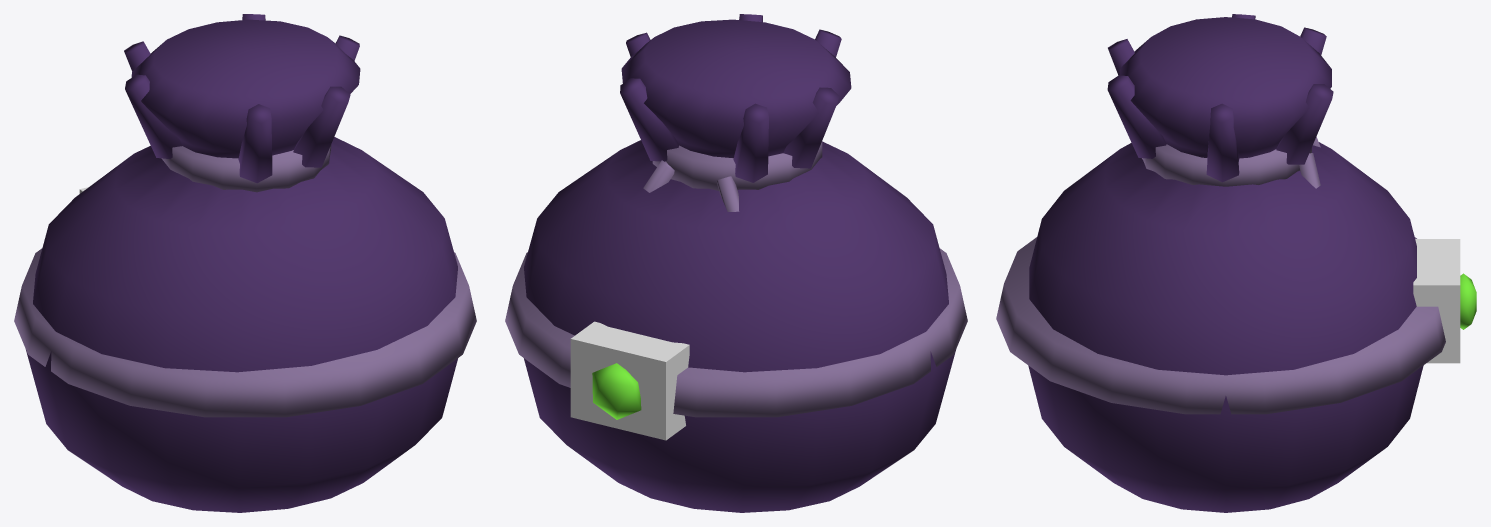
File: eater_of_worlds_treasure_bag.glb
The picture shows the model from 3 angles, left to right: view 1: azimuth 30°, elevation 25°; view 2: azimuth 150°, elevation 25°; view 3: azimuth 270°, elevation 25°; orthographic projection.
Parts seen in each view (by area): view 1: eater_of_worlds_treasure_bag_v0; view 2: eater_of_worlds_treasure_bag_v0; view 3: eater_of_worlds_treasure_bag_v0.
Part boxes in pixels (box(x1,y1,x2,y2)): eater_of_worlds_treasure_bag_v0: box(14, 14, 476, 512); eater_of_worlds_treasure_bag_v0: box(505, 14, 967, 512); eater_of_worlds_treasure_bag_v0: box(996, 14, 1476, 512).
Bounding box in the file's own units: 0.2909 × 0.29 × 0.3075.
